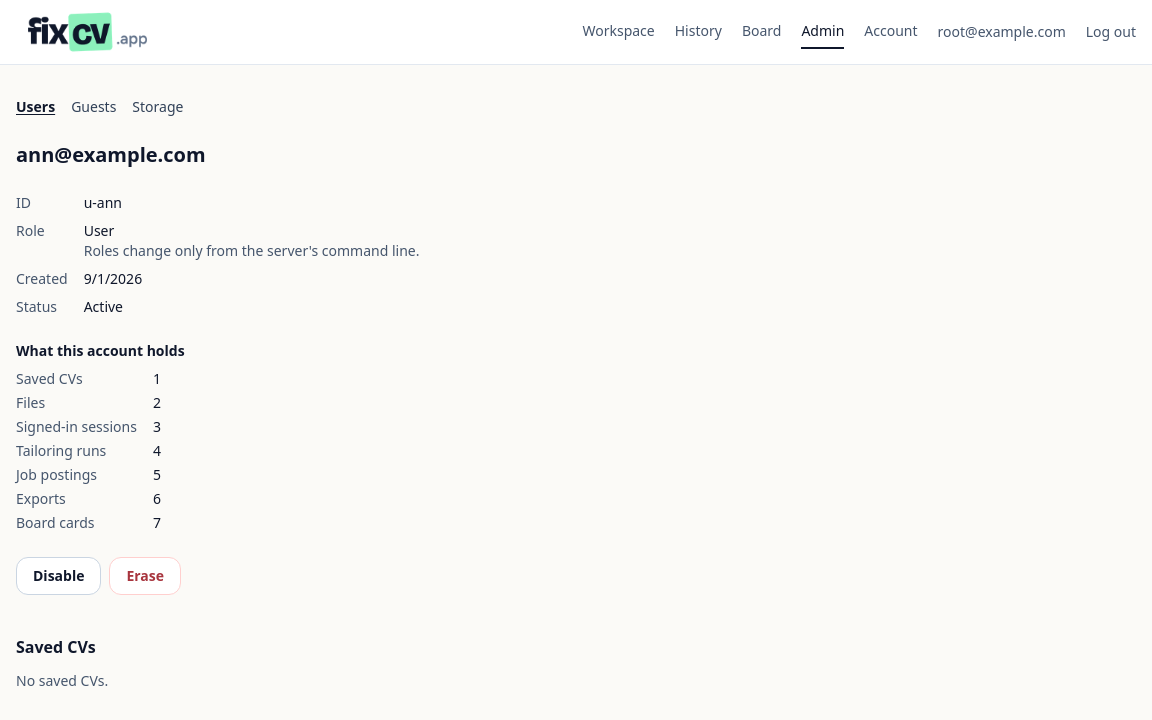
Test case: Disable and enable — AC-34 › confirming POSTs disable, then the status reads Disabled and the button becomes Enable
Click the button "Disable". click: click(59, 576)
box: [16,557,102,595]
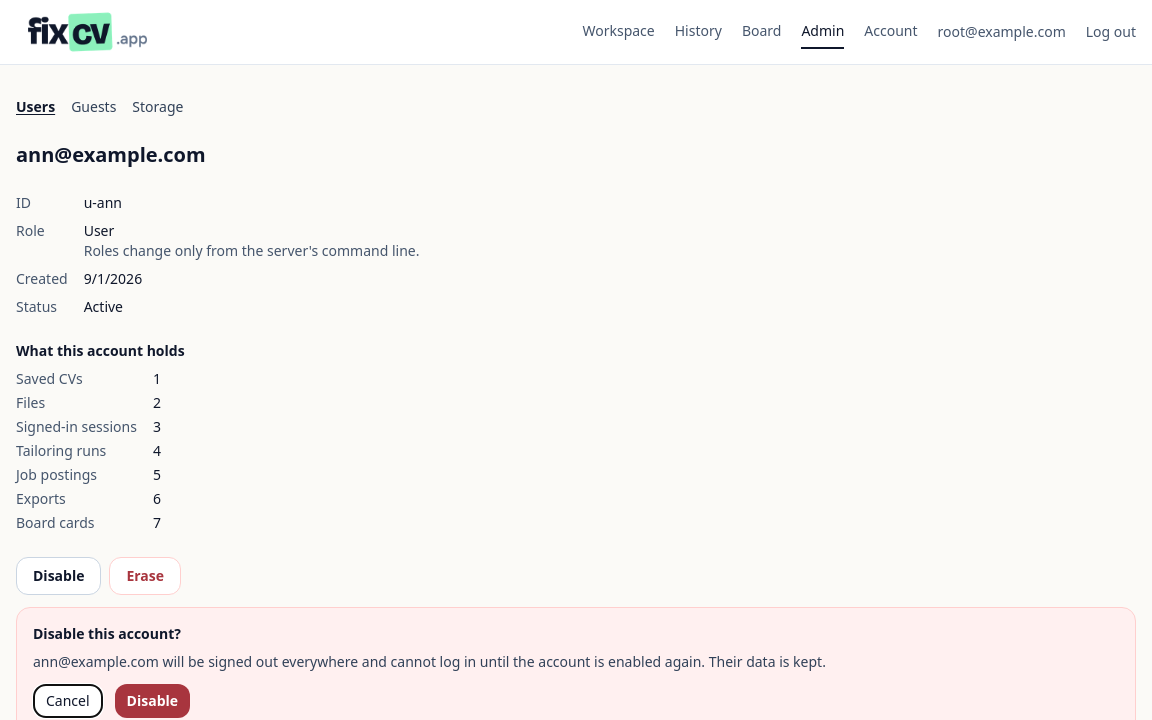
Click the button "Disable" below "Disable this account?". click: click(152, 701)
box: [115,684,190,718]
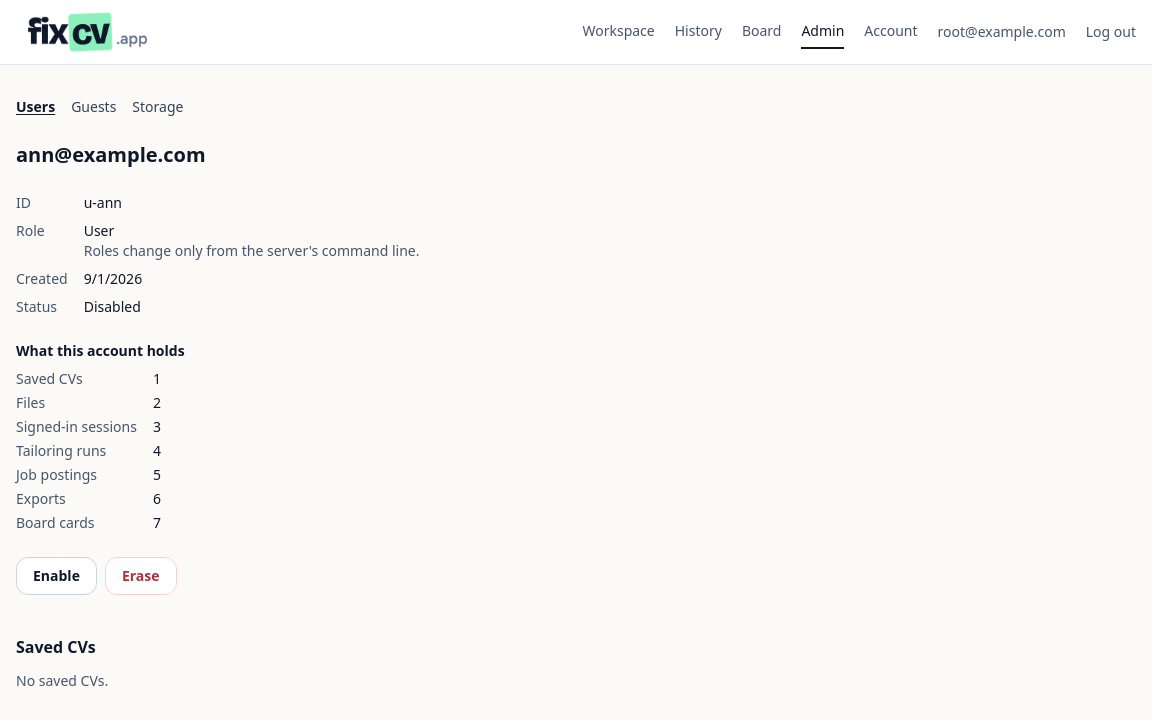
Check: the button "Enable" is shown, box [16,557,97,595]
Check: the text "Disabled" is shown, box [84,297,141,316]
